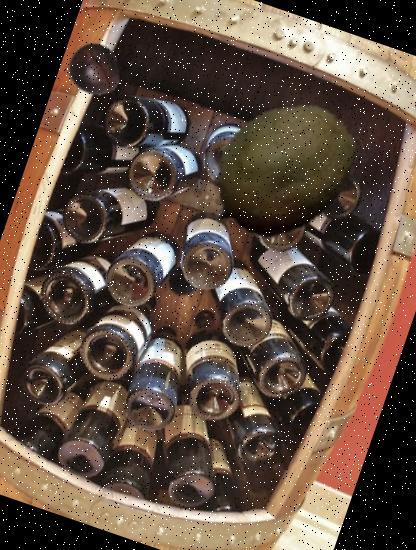Chestnut: (59, 35, 128, 104)
Papaya: (189, 73, 380, 264)
